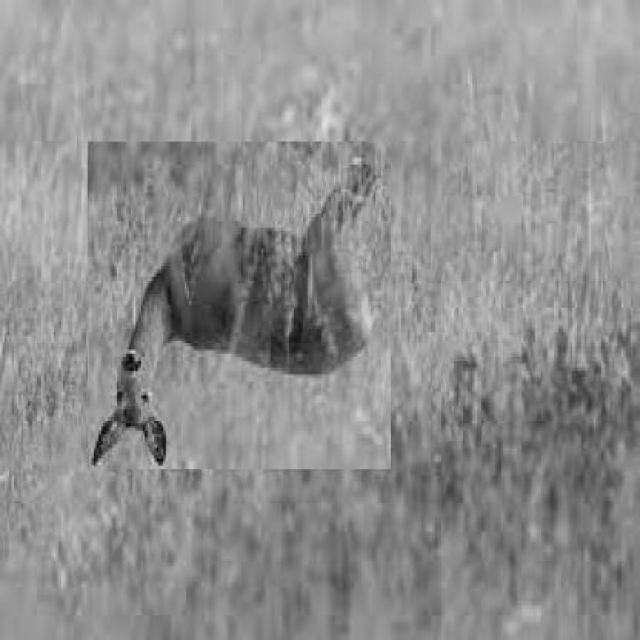Deer: (88, 142, 392, 470)
